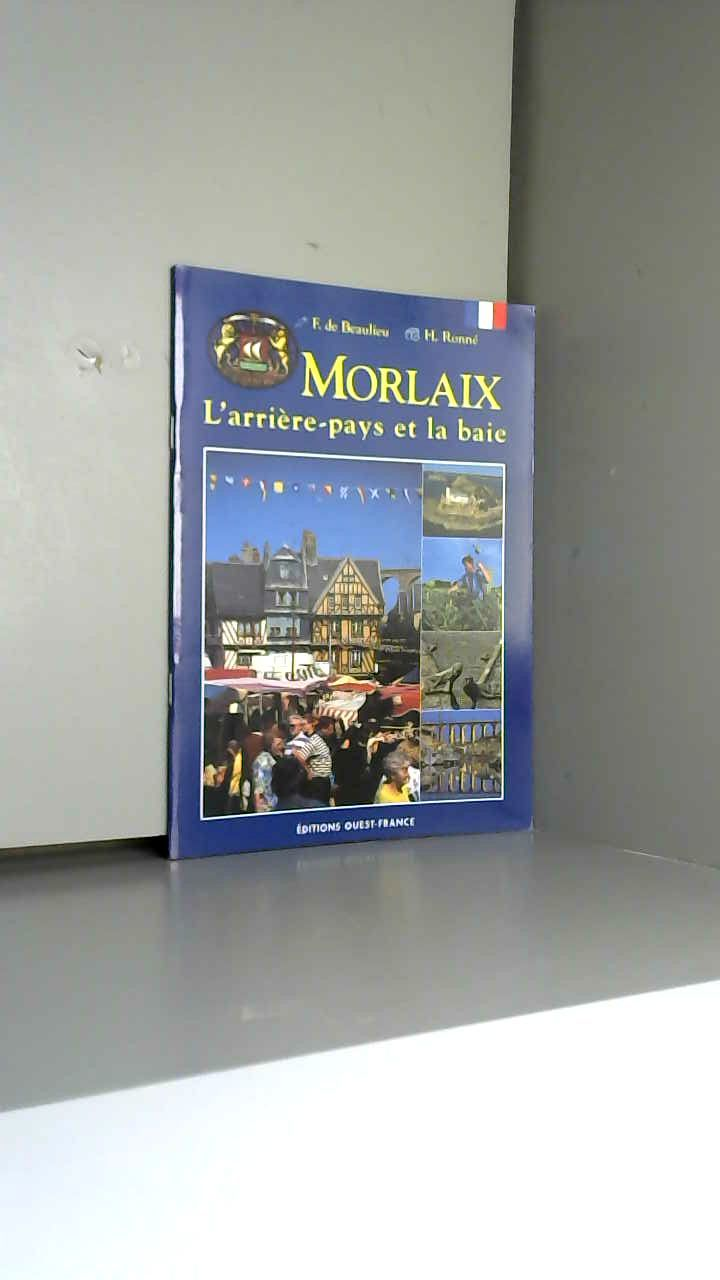book: (148, 239, 560, 887)
